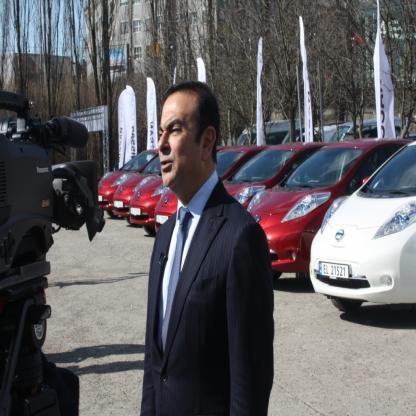Car: (97, 141, 416, 319)
